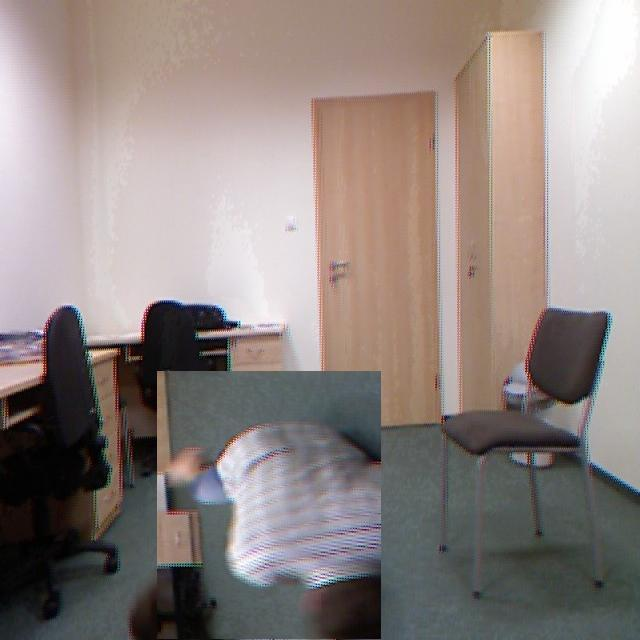Fall: (160, 382, 411, 640)
